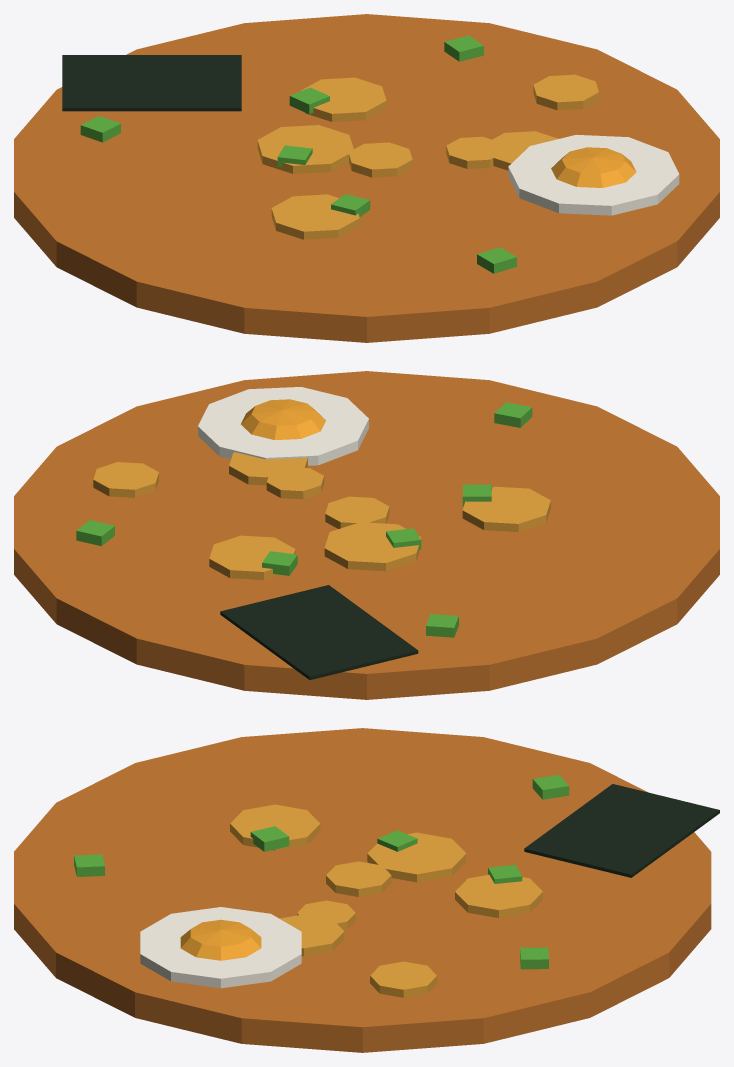
The model's file is food_broth.glb.
3 renders of one model, top to bottom at view 1: azimuth 30°, elevation 25°; view 2: azimuth 150°, elevation 25°; view 3: azimuth 270°, elevation 25°, orthographic.
Parts seen in each view (by area): view 1: food_broth; view 2: food_broth; view 3: food_broth.
Boxes of the visible parts, left/top/right/bottom form: food_broth: left=14, top=14, right=719, bottom=342; food_broth: left=14, top=371, right=719, bottom=699; food_broth: left=14, top=728, right=719, bottom=1052.
Bounding box in the file's own units: 0.2 × 0.015 × 0.1994.
